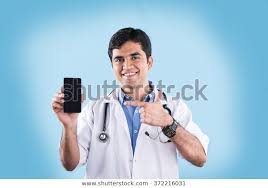Indian_Male: (110, 36, 157, 90)
